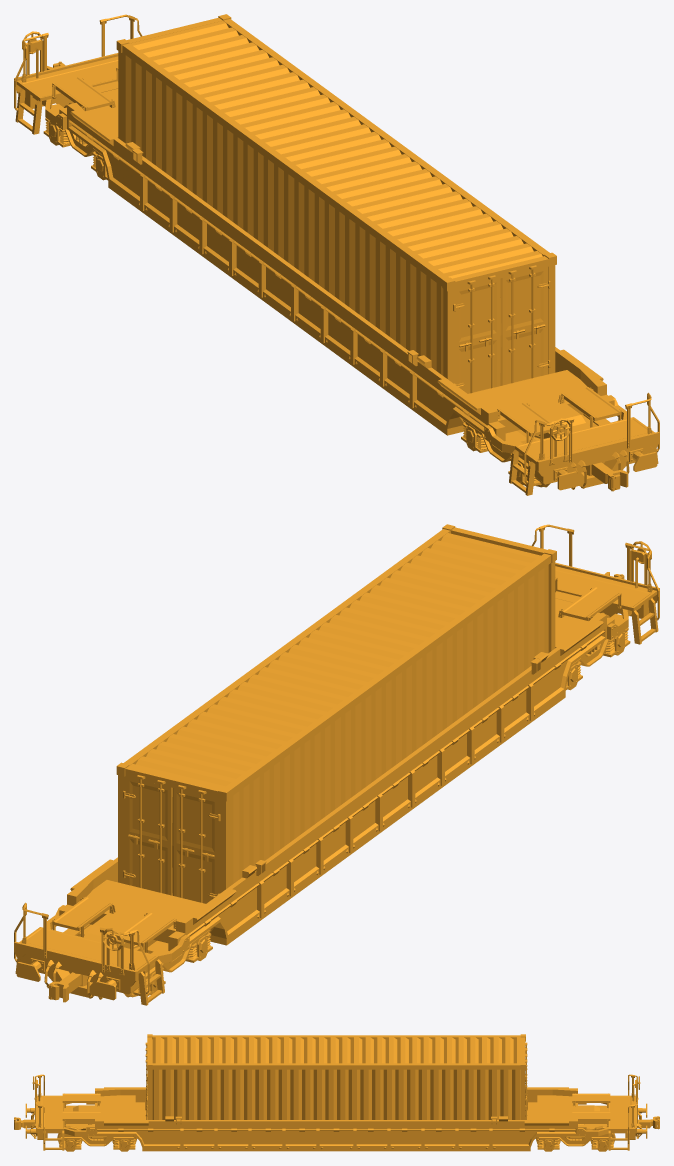
Rendered from SM_Train_Wagon_Container.fbx.
The picture shows the model from 3 angles, top to bottom: view 1: azimuth 30°, elevation 25°; view 2: azimuth 150°, elevation 25°; view 3: azimuth 270°, elevation 25°; orthographic projection. The views are drawn at different scales.
Parts seen in each view (by area): view 1: SM_Train_Wagon_Container_Base_Container, SM_Train_Wagon_Container_Base, SM_Train_Wagon_Container_Base_Chassis_F, SM_Train_Wagon_Container_Base_Chassis_B, SM_Train_Wagon_Container_Base_Joint_F; view 2: SM_Train_Wagon_Container_Base_Container, SM_Train_Wagon_Container_Base, SM_Train_Wagon_Container_Base_Chassis_B, SM_Train_Wagon_Container_Base_Chassis_F, SM_Train_Wagon_Container_Base_Joint_B; view 3: SM_Train_Wagon_Container_Base_Container, SM_Train_Wagon_Container_Base, SM_Train_Wagon_Container_Base_Chassis_B, SM_Train_Wagon_Container_Base_Chassis_F, SM_Train_Wagon_Container_Base_Joint_B, SM_Train_Wagon_Container_Base_Joint_F.
Boxes of the visible parts, left/top/right/bottom form: SM_Train_Wagon_Container_Base_Container: left=116, top=14, right=556, bottom=393; SM_Train_Wagon_Container_Base: left=14, top=14, right=659, bottom=495; SM_Train_Wagon_Container_Base_Chassis_F: left=461, top=414, right=610, bottom=486; SM_Train_Wagon_Container_Base_Chassis_B: left=43, top=104, right=107, bottom=180; SM_Train_Wagon_Container_Base_Joint_F: left=583, top=462, right=628, bottom=491; SM_Train_Wagon_Container_Base_Container: left=116, top=524, right=556, bottom=903; SM_Train_Wagon_Container_Base: left=14, top=524, right=659, bottom=1005; SM_Train_Wagon_Container_Base_Chassis_B: left=63, top=924, right=212, bottom=996; SM_Train_Wagon_Container_Base_Chassis_F: left=566, top=613, right=630, bottom=690; SM_Train_Wagon_Container_Base_Joint_B: left=48, top=972, right=88, bottom=1002; SM_Train_Wagon_Container_Base_Container: left=145, top=1034, right=527, bottom=1119; SM_Train_Wagon_Container_Base: left=25, top=1074, right=647, bottom=1151; SM_Train_Wagon_Container_Base_Chassis_B: left=537, top=1105, right=613, bottom=1151; SM_Train_Wagon_Container_Base_Chassis_F: left=59, top=1105, right=135, bottom=1151; SM_Train_Wagon_Container_Base_Joint_B: left=637, top=1116, right=659, bottom=1129; SM_Train_Wagon_Container_Base_Joint_F: left=14, top=1117, right=35, bottom=1129.
Bounding box in the file's own units: 3.31 × 3.74 × 23.87.
